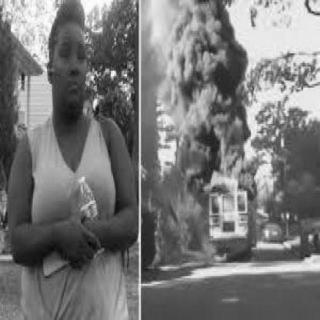Smoke: (159, 8, 263, 222)
